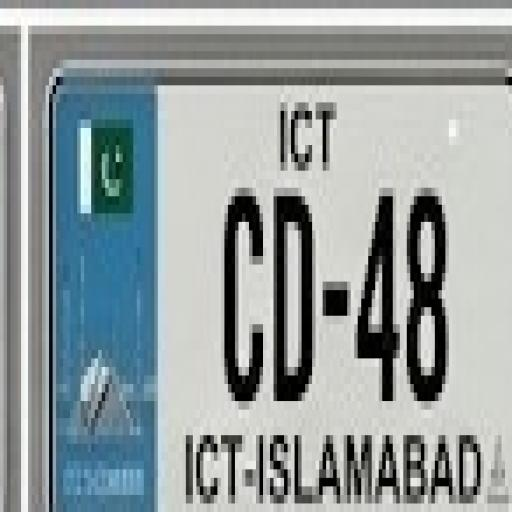4: (359, 188, 398, 403)
8: (405, 179, 450, 408)
C: (224, 195, 262, 413)
D: (271, 180, 312, 404)
